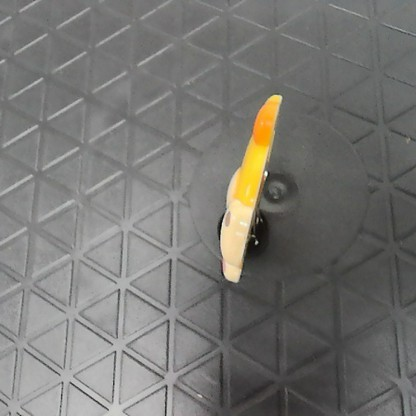dogclip: (212, 89, 280, 284)
